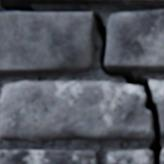brick: (0, 13, 95, 74), (105, 10, 163, 70), (0, 151, 98, 163), (2, 0, 163, 5)
broken_brick: (0, 82, 154, 141), (149, 81, 163, 137), (108, 151, 152, 163), (161, 149, 163, 163)
crack: (0, 0, 162, 163)
